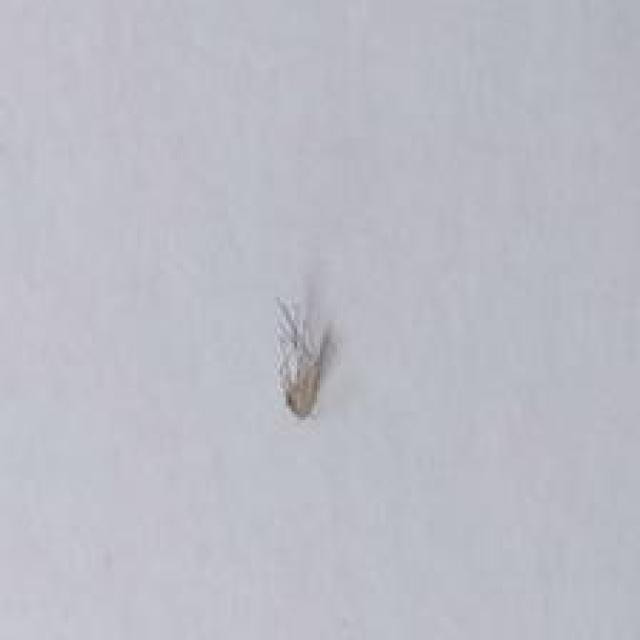Culex: (273, 293, 333, 418)
